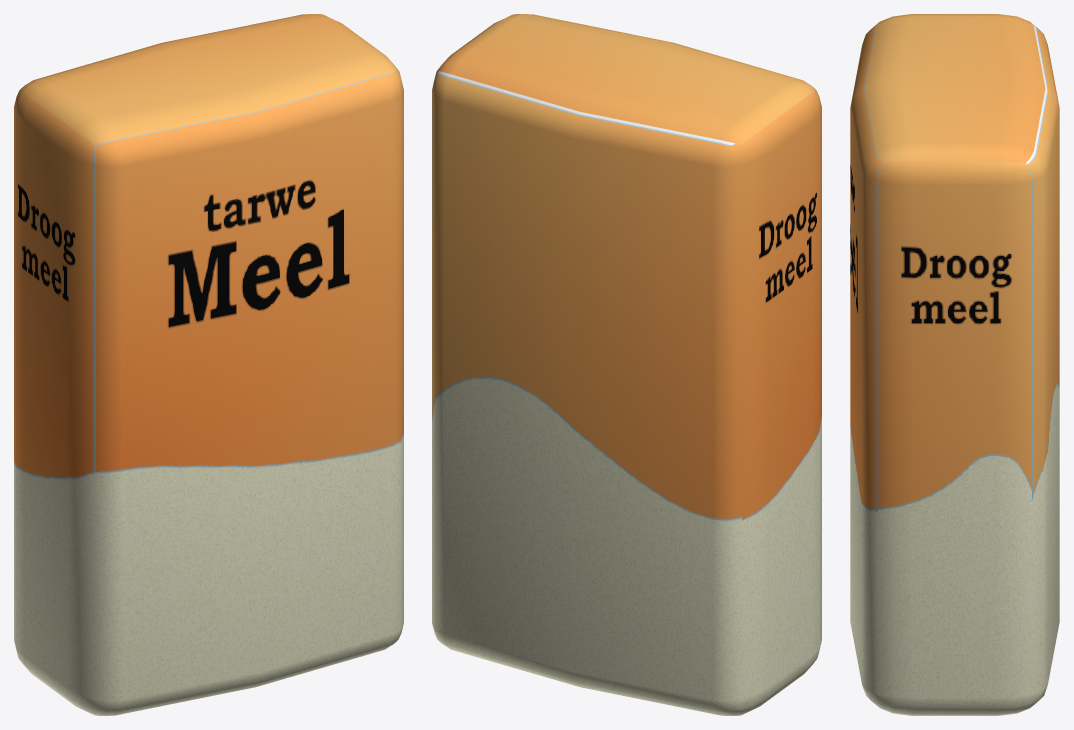
Rendered from flour.fbx.
3 views of the same model, side by side, from view 1: azimuth 30°, elevation 25°; view 2: azimuth 150°, elevation 25°; view 3: azimuth 270°, elevation 25° (orthographic). The views are drawn at different scales.
Visible parts, largest first — view 1: Cube.027; view 2: Cube.027; view 3: Cube.027.
Part boxes in pixels (left/top/right/bottom): Cube.027: left=14, top=14, right=403, bottom=715; Cube.027: left=432, top=14, right=821, bottom=715; Cube.027: left=850, top=14, right=1059, bottom=715.
Size of the model in its own units: 57.21 by 99.26 by 33.1.
